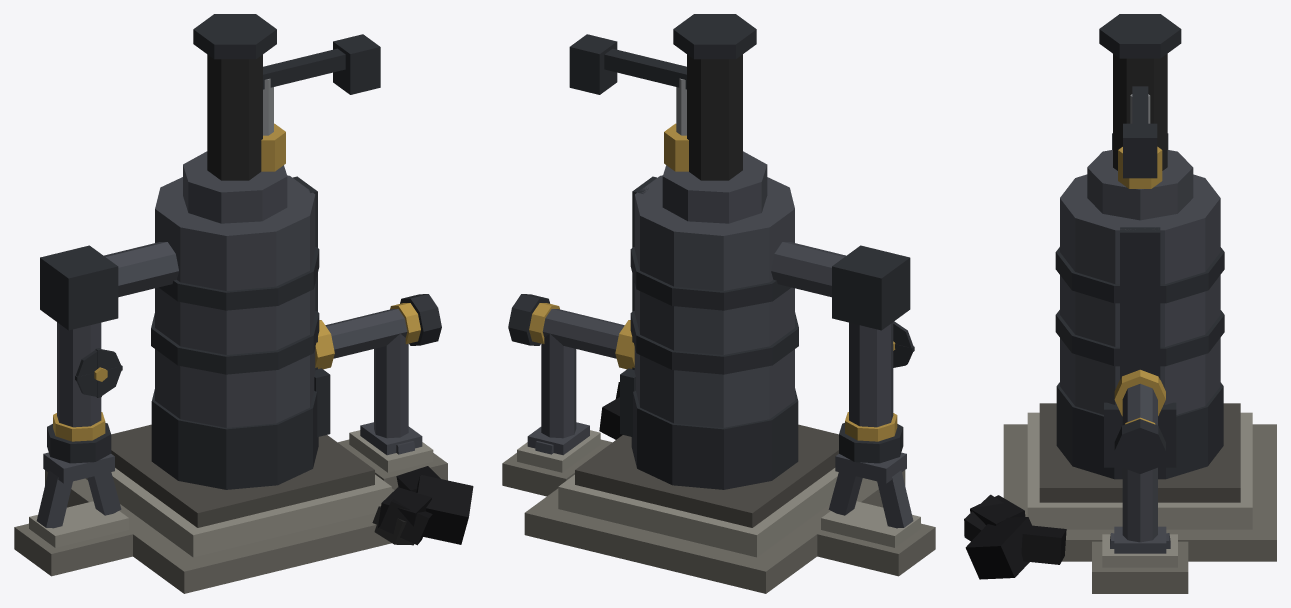
The model's file is boiler_small.glb.
The picture shows the model from 3 angles, left to right: view 1: azimuth 30°, elevation 25°; view 2: azimuth 150°, elevation 25°; view 3: azimuth 270°, elevation 25°; orthographic projection.
Parts seen in each view (by area): view 1: Cylinder.001, Cylinder, Cube.002, Cube, Cube.001, Cylinder.005, Cube.007, Cylinder.004, Cylinder.002, Cylinder.010, Cube.010, Cylinder.019 (+24 smaller); view 2: Cylinder.001, Cube, Cylinder, Cube.002, Cube.001, Cylinder.005, Cube.007, Cylinder.004, Cylinder.010, Cylinder.002, Cube.010, Cylinder.019 (+23 smaller); view 3: Cylinder.001, Cube, Cube.002, Cube.001, Cylinder, Cube.004, Cylinder.004, Cylinder.005, Cube.015, Cylinder.006, Cube.023, Cylinder.002 (+14 smaller).
Part boxes in pixels (x1=…): Cylinder.001: x1=155, y1=175, x2=315, y2=427; Cylinder: x1=151, y1=389, x2=318, y2=489; Cube.002: x1=111, y1=424, x2=374, y2=527; Cube: x1=45, y1=470, x2=394, y2=593; Cube.001: x1=85, y1=468, x2=391, y2=557; Cylinder.005: x1=207, y1=54, x2=262, y2=180; Cube.007: x1=40, y1=245, x2=118, y2=330; Cylinder.004: x1=183, y1=151, x2=287, y2=223; Cylinder.002: x1=151, y1=311, x2=319, y2=374; Cylinder.010: x1=57, y1=322, x2=101, y2=427; Cube.010: x1=14, y1=523, x2=132, y2=576; Cylinder.019: x1=374, y1=333, x2=408, y2=438; Cylinder.001: x1=634, y1=175, x2=794, y2=427; Cube: x1=524, y1=470, x2=905, y2=593; Cylinder: x1=631, y1=388, x2=798, y2=489; Cube.002: x1=575, y1=424, x2=838, y2=527; Cube.001: x1=558, y1=468, x2=864, y2=557; Cylinder.005: x1=687, y1=54, x2=742, y2=180; Cube.007: x1=832, y1=245, x2=910, y2=330; Cylinder.004: x1=662, y1=151, x2=767, y2=223; Cylinder.010: x1=849, y1=322, x2=893, y2=427; Cylinder.002: x1=630, y1=311, x2=798, y2=374; Cube.010: x1=817, y1=523, x2=935, y2=576; Cylinder.019: x1=541, y1=333, x2=576, y2=438; Cylinder.001: x1=1060, y1=174, x2=1220, y2=414; Cube: x1=1003, y1=424, x2=1276, y2=561; Cube.002: x1=1039, y1=403, x2=1240, y2=502; Cube.001: x1=1027, y1=412, x2=1252, y2=529; Cylinder: x1=1056, y1=382, x2=1223, y2=479; Cube.004: x1=1120, y1=227, x2=1160, y2=380; Cylinder.004: x1=1087, y1=150, x2=1193, y2=220; Cylinder.005: x1=1113, y1=54, x2=1167, y2=170; Cube.015: x1=1092, y1=541, x2=1188, y2=593; Cylinder.006: x1=1099, y1=14, x2=1181, y2=58; Cube.023: x1=965, y1=517, x2=1033, y2=579; Cylinder.002: x1=1055, y1=310, x2=1224, y2=366.
Bounding box in the file's own units: 55.8 × 66.1 × 38.91.
